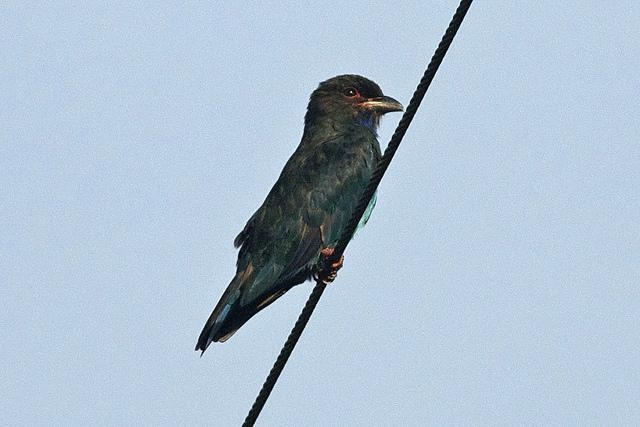bird: (183, 71, 406, 350)
